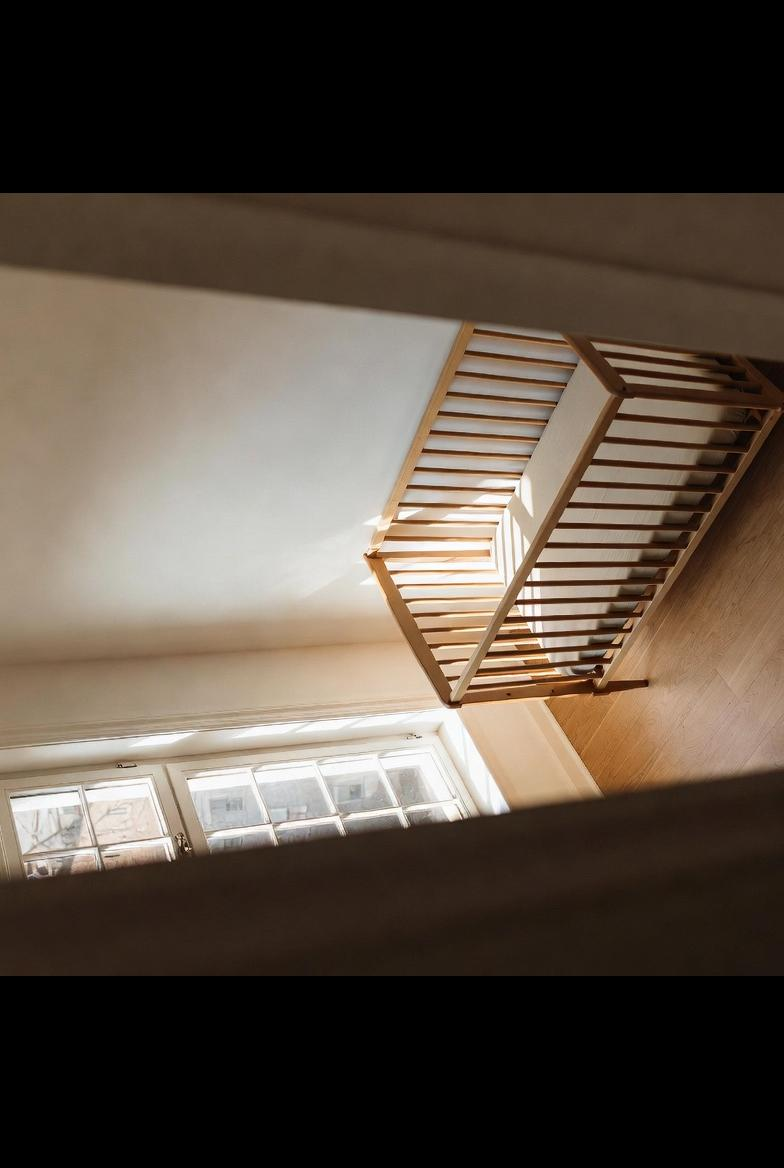crib: (366, 322, 784, 706)
